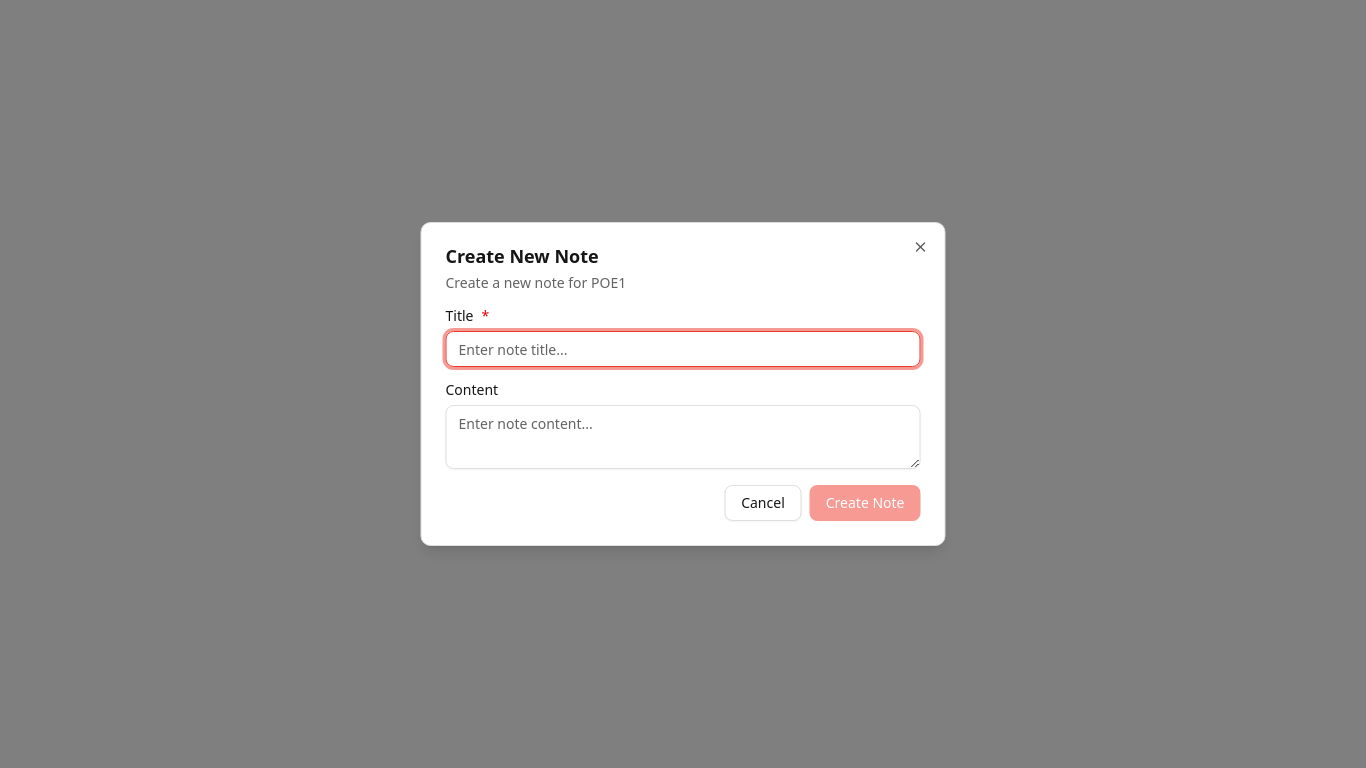
Test: NoteFormDialog › validation › should enable submit button when title has valid text
In the field labelled "Title *": (683, 349) x1=446 y1=331 x2=920 y2=367, type "Valid Title"
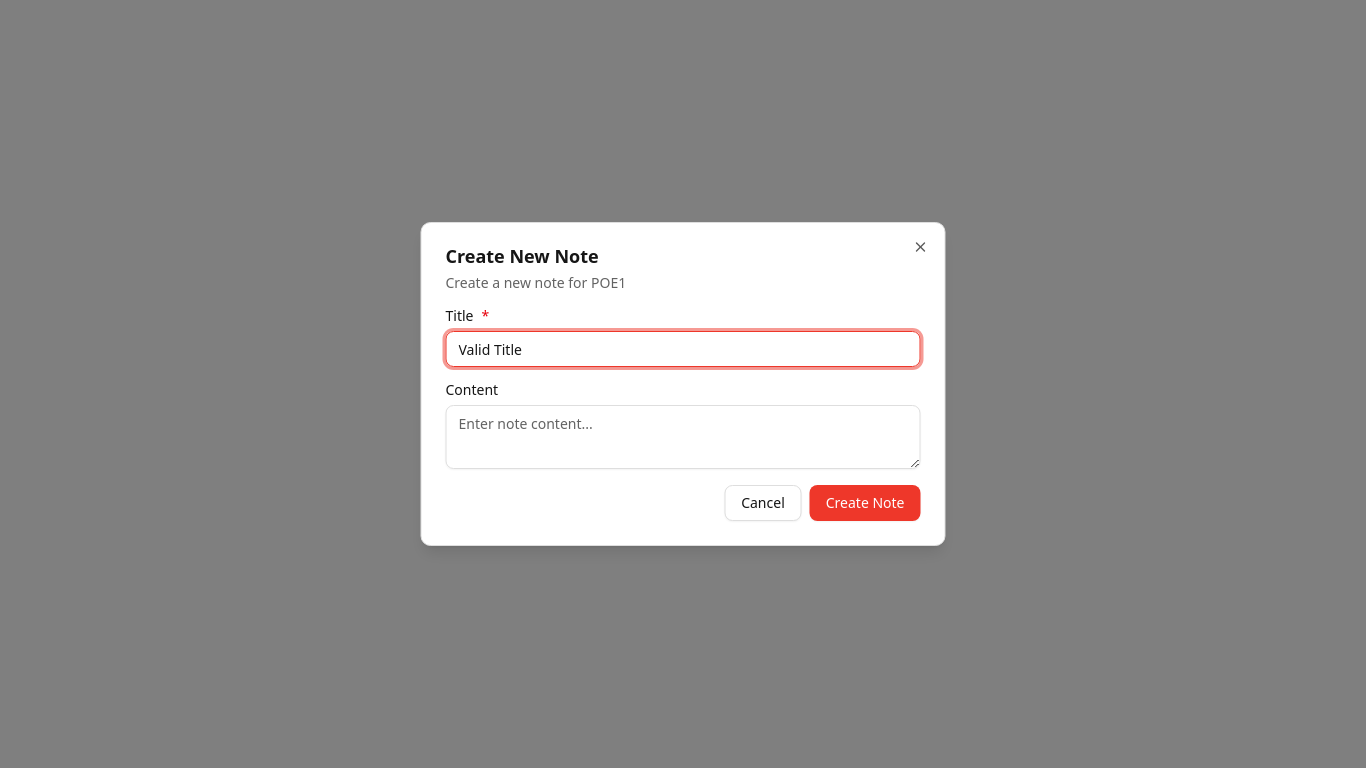
Check: the button "Create Note" is enabled, box x1=810 y1=485 x2=921 y2=521
